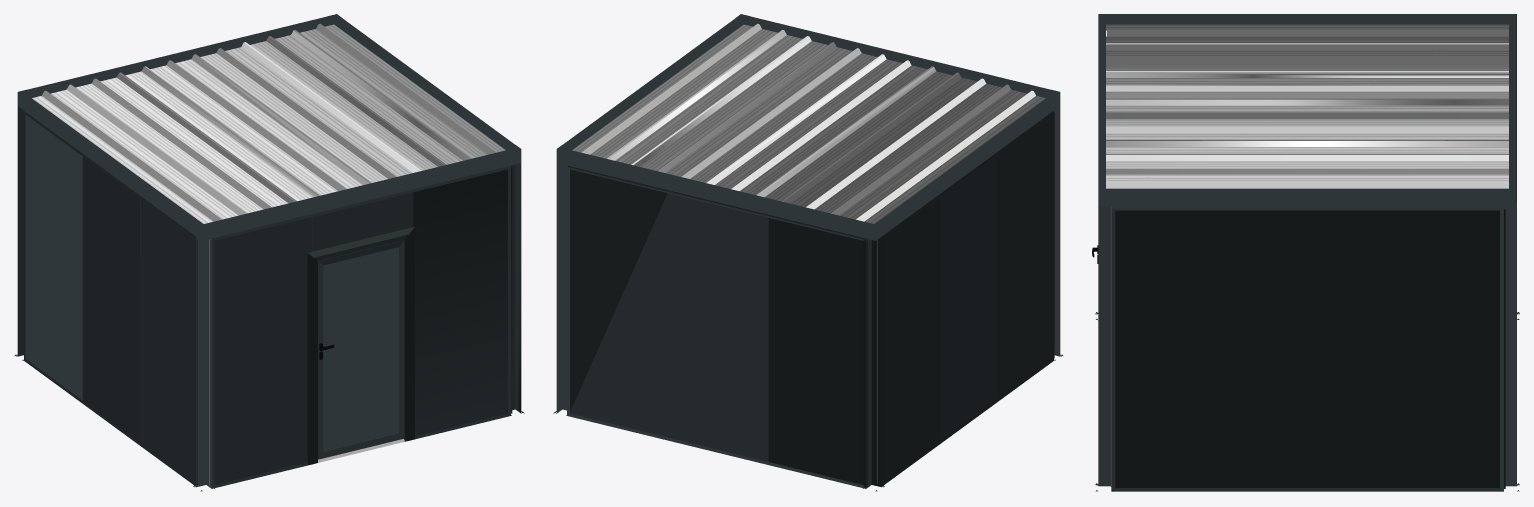
3 views of the same model, side by side, from view 1: azimuth 30°, elevation 25°; view 2: azimuth 150°, elevation 25°; view 3: azimuth 270°, elevation 25° (orthographic). The views are drawn at different scales.
Visible parts, largest first — view 1: priximbattable_net_abris_de_jardin_13437_abris_de_jardin_toi, folha, porta; view 2: priximbattable_net_abris_de_jardin_13437_abris_de_jardin_toi; view 3: priximbattable_net_abris_de_jardin_13437_abris_de_jardin_toi.
Part boxes in pixels (left/top/right/bottom): priximbattable_net_abris_de_jardin_13437_abris_de_jardin_toi: left=14, top=14, right=524, bottom=491; folha: left=318, top=240, right=404, bottom=459; porta: left=307, top=226, right=414, bottom=465; priximbattable_net_abris_de_jardin_13437_abris_de_jardin_toi: left=553, top=14, right=1063, bottom=491; priximbattable_net_abris_de_jardin_13437_abris_de_jardin_toi: left=1095, top=14, right=1519, bottom=491.
Bounding box in the file's own units: 324 × 254 × 327.
1 material, 1 textured.
